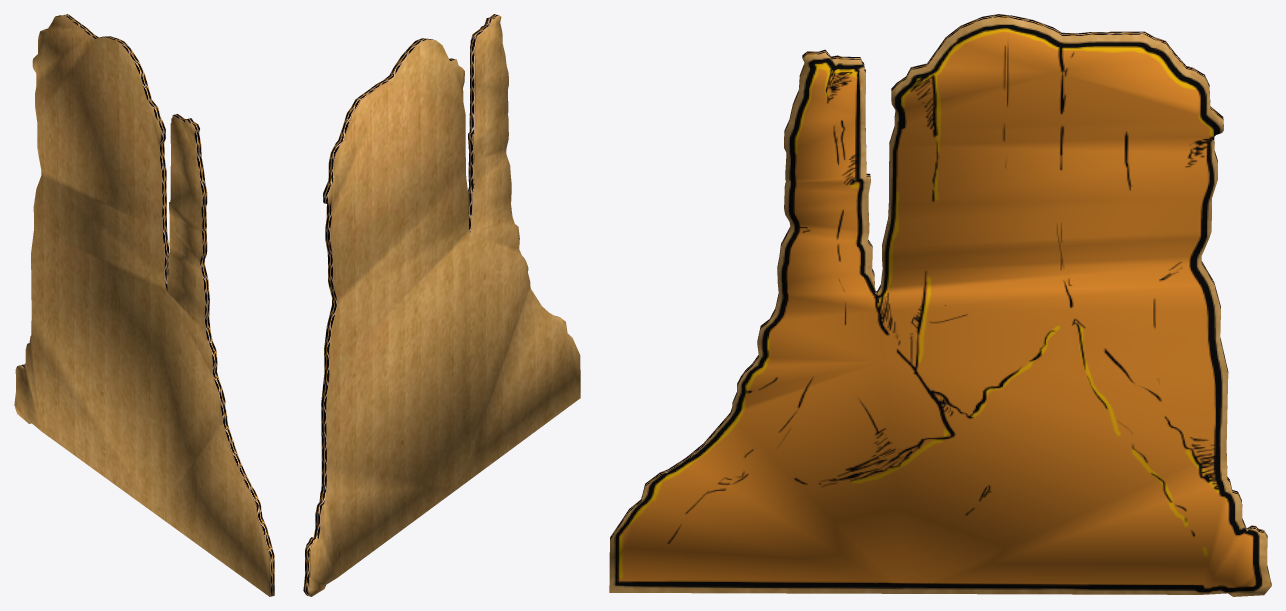
File: AST_GRAPH_Canyon_GJ.fbx
The picture shows the model from 3 angles, left to right: view 1: azimuth 30°, elevation 25°; view 2: azimuth 150°, elevation 25°; view 3: azimuth 270°, elevation 25°; orthographic projection. The views are drawn at different scales.
Visible parts, largest first — view 1: gj png canyon copie; view 2: gj png canyon copie; view 3: gj png canyon copie.
Boxes of the visible parts, left/top/right/bottom form: gj png canyon copie: left=14, top=14, right=274, bottom=596; gj png canyon copie: left=303, top=14, right=580, bottom=596; gj png canyon copie: left=609, top=14, right=1271, bottom=596.
Size of the model in its own units: 1.5 by 129 by 133.
